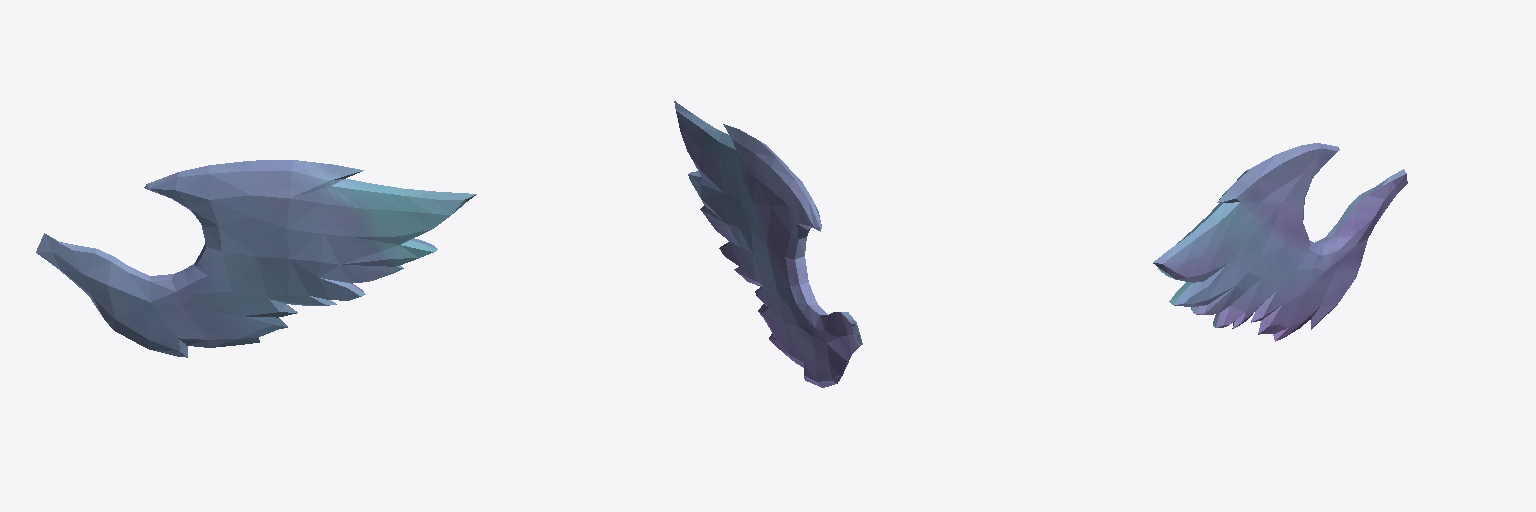
The picture shows the model from 3 angles: view 1: azimuth 30°, elevation 25°; view 2: azimuth 150°, elevation 25°; view 3: azimuth 270°, elevation 25°; orthographic projection.
Visible parts, largest first — view 1: L_Wing_Mid_Hand, L_Wing_Mid_Feather_Root, L_Wing_Mid_Finger4_2, L_Wing_Mid_Finger5_1, L_Wing_Mid_Finger1_3, L_Wing_Mid_Feather2_1, L_Wing_Mid_Finger4_1, L_Wing_Mid_Root, L_Wing_Mid_Finger5_2, L_Wing_Mid_Feather3_1, Ala_Derecha_Material.002, L_Wing_Mid_Tip; view 2: L_Wing_Mid_Hand, L_Wing_Mid_Feather_Root, L_Wing_Mid_Finger4_2, L_Wing_Mid_Finger4_1, L_Wing_Mid_Finger1_3, L_Wing_Mid_Finger5_1, L_Wing_Mid_Feather2_1, L_Wing_Mid_Finger5_2, L_Wing_Mid_Root, L_Wing_Mid_Feather3_1; view 3: L_Wing_Mid_Hand, L_Wing_Mid_Feather_Root, L_Wing_Mid_Finger4_2, L_Wing_Mid_Finger1_3, L_Wing_Mid_Feather2_1, L_Wing_Mid_Finger5_1, L_Wing_Mid_Root, L_Wing_Mid_Finger4_1, L_Wing_Mid_Finger5_2, L_Wing_Mid_Feather3_1.
Part boxes in pixels (left/top/right/bottom): L_Wing_Mid_Hand: left=176, top=160, right=332, bottom=293; L_Wing_Mid_Feather_Root: left=287, top=165, right=369, bottom=305; L_Wing_Mid_Finger4_2: left=178, top=257, right=308, bottom=347; L_Wing_Mid_Finger5_1: left=107, top=257, right=179, bottom=338; L_Wing_Mid_Finger1_3: left=363, top=183, right=476, bottom=235; L_Wing_Mid_Feather2_1: left=340, top=209, right=437, bottom=272; L_Wing_Mid_Finger4_1: left=172, top=243, right=231, bottom=310; L_Wing_Mid_Root: left=49, top=245, right=113, bottom=296; L_Wing_Mid_Finger5_2: left=105, top=303, right=187, bottom=357; L_Wing_Mid_Feather3_1: left=319, top=265, right=395, bottom=300; Ala_Derecha_Material.002: left=36, top=233, right=74, bottom=260; L_Wing_Mid_Tip: left=144, top=172, right=189, bottom=208; L_Wing_Mid_Hand: left=739, top=129, right=812, bottom=290; L_Wing_Mid_Feather_Root: left=718, top=124, right=754, bottom=281; L_Wing_Mid_Finger4_2: left=741, top=247, right=803, bottom=367; L_Wing_Mid_Finger4_1: left=778, top=256, right=817, bottom=327; L_Wing_Mid_Finger1_3: left=674, top=101, right=723, bottom=168; L_Wing_Mid_Finger5_1: left=800, top=304, right=837, bottom=378; L_Wing_Mid_Feather2_1: left=687, top=151, right=725, bottom=222; L_Wing_Mid_Finger5_2: left=804, top=337, right=846, bottom=387; L_Wing_Mid_Root: left=825, top=312, right=860, bottom=360; L_Wing_Mid_Feather3_1: left=700, top=205, right=739, bottom=266; L_Wing_Mid_Hand: left=1232, top=143, right=1321, bottom=276; L_Wing_Mid_Feather_Root: left=1207, top=178, right=1261, bottom=328; L_Wing_Mid_Finger4_2: left=1246, top=245, right=1323, bottom=341; L_Wing_Mid_Finger1_3: left=1153, top=216, right=1223, bottom=282; L_Wing_Mid_Feather2_1: left=1169, top=237, right=1235, bottom=314; L_Wing_Mid_Finger5_1: left=1315, top=206, right=1373, bottom=305; L_Wing_Mid_Root: left=1349, top=187, right=1397, bottom=243; L_Wing_Mid_Finger4_1: left=1297, top=224, right=1323, bottom=291; L_Wing_Mid_Finger5_2: left=1311, top=247, right=1360, bottom=329; L_Wing_Mid_Feather3_1: left=1204, top=286, right=1245, bottom=327.
Size of the model in its own units: 7.95 by 4.83 by 5.58.
1 materials, 1 textured.